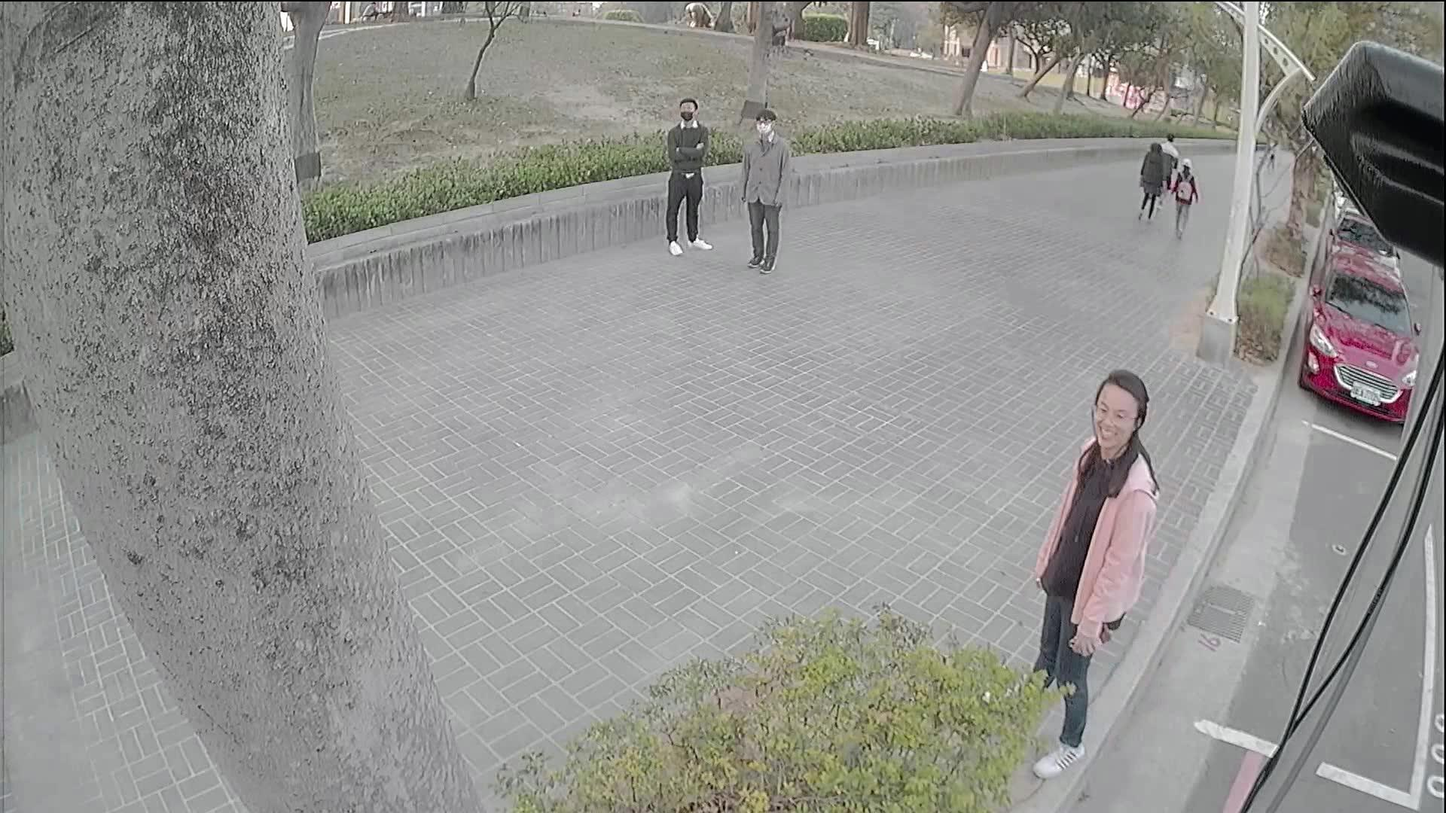person: (1032, 371, 1161, 777), (737, 108, 788, 272), (667, 96, 715, 255), (1166, 160, 1198, 234), (1133, 145, 1158, 216), (1158, 125, 1179, 157)
